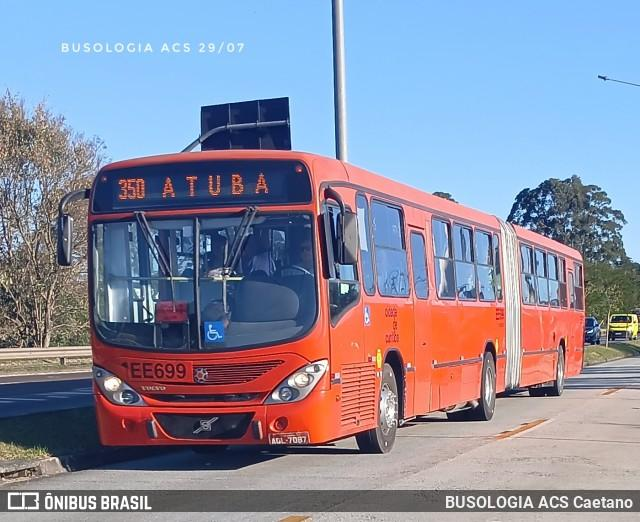ATUBA: (156, 170, 276, 202)
